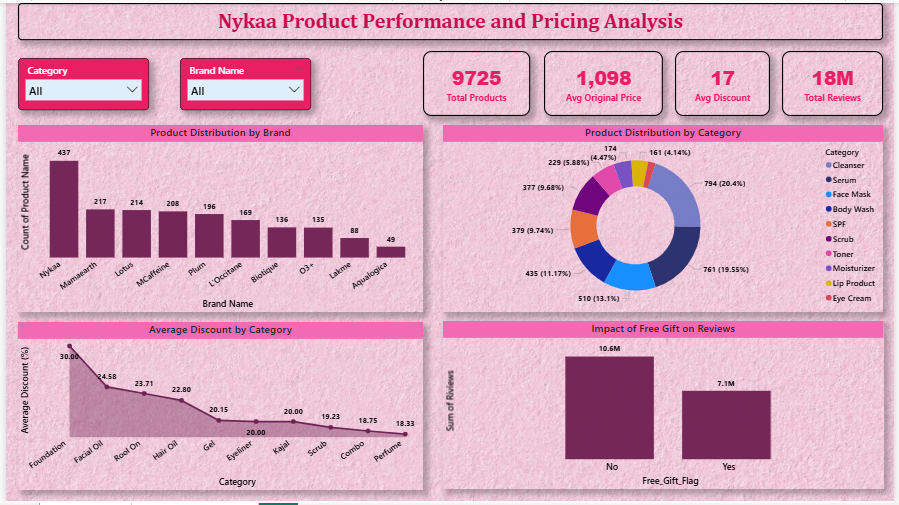

The dashboard page shown, as its layout file describes it:
{"tool":"powerbi","page":{"name":"Overview","canvas":[1600,900],"ordinal":0},"visuals":[{"type":"textbox","box":[21.6,0,1557,66.6],"z":0},{"type":"card","fields":{"Values":["Nykaa Analysis Dataset.Total Products"]},"box":[750.6,86.4,192.6,117],"z":1000},{"type":"card","fields":{"Values":["Nykaa Analysis Dataset.Total Reviews"]},"box":[1396.8,86.4,181.8,117],"z":2000},{"type":"card","fields":{"Values":["Nykaa Analysis Dataset.Avg Original Price"]},"box":[968.4,86.4,214.2,117],"z":3000},{"type":"card","fields":{"Values":["Nykaa Analysis Dataset.Avg Discount"]},"box":[1204.2,86.4,171,117],"z":4000},{"type":"clusteredColumnChart","title":"Product Distribution by Brand ","fields":{"Category":["Nykaa Analysis Dataset.Brand Name"],"Y":["CountNonNull(Nykaa Analysis Dataset.Product Name)"]},"box":[21.6,219.6,729,336.6],"z":5000},{"type":"donutChart","title":"Product Distribution by Category","fields":{"Category":["Nykaa Analysis Dataset.Category"],"Y":["CountNonNull(Nykaa Analysis Dataset.Product Name)"]},"box":[786.6,219.6,792,336.6],"z":6000},{"type":"columnChart","title":"Impact of Free Gift on Reviews","fields":{"Category":["Nykaa Analysis Dataset.Free_Gift_Flag"],"Y":["Sum(Nykaa Analysis Dataset.Reviews)"]},"box":[785.7,573.2,792.9,301.8],"z":7000},{"type":"lineChart","title":"Average Discount by Category","fields":{"Category":["Nykaa Analysis Dataset.Category"],"Y":["Avg(Nykaa Analysis Dataset.Discount)"]},"box":[21.6,574.2,729,302.4],"z":8000},{"type":"slicer","fields":{"Values":["Nykaa Analysis Dataset.Category"]},"box":[21.6,99,235.8,93.6],"z":9000},{"type":"slicer","fields":{"Values":["Nykaa Analysis Dataset.Brand Name"]},"box":[313.2,99,235.8,93.6],"z":10000}]}

Visuals, with their boxes in screenshot pixels (x1, y1, x2, y2), scaled from the page's 1600x900 canvas onto the 899x505 screenshot:
textbox: (12, 0, 887, 37)
card - Nykaa Analysis Dataset.Total Products: (422, 48, 530, 114)
card - Nykaa Analysis Dataset.Total Reviews: (785, 48, 887, 114)
card - Nykaa Analysis Dataset.Avg Original Price: (544, 48, 664, 114)
card - Nykaa Analysis Dataset.Avg Discount: (677, 48, 773, 114)
"Product Distribution by Brand " clusteredColumnChart: (12, 123, 422, 312)
"Product Distribution by Category" donutChart: (442, 123, 887, 312)
"Impact of Free Gift on Reviews" columnChart: (441, 322, 887, 491)
"Average Discount by Category" lineChart: (12, 322, 422, 492)
slicer - Nykaa Analysis Dataset.Category: (12, 56, 145, 108)
slicer - Nykaa Analysis Dataset.Brand Name: (176, 56, 308, 108)
